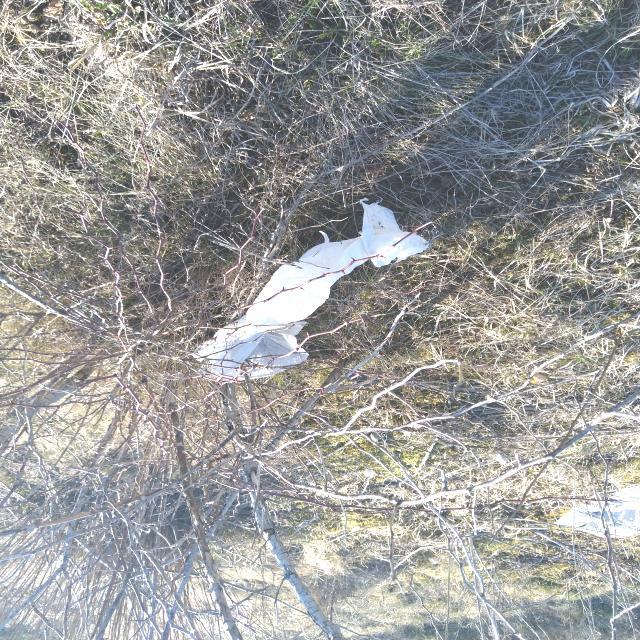Plastic film: (192, 199, 430, 381)
Unlabeled litter: (555, 482, 639, 539)
